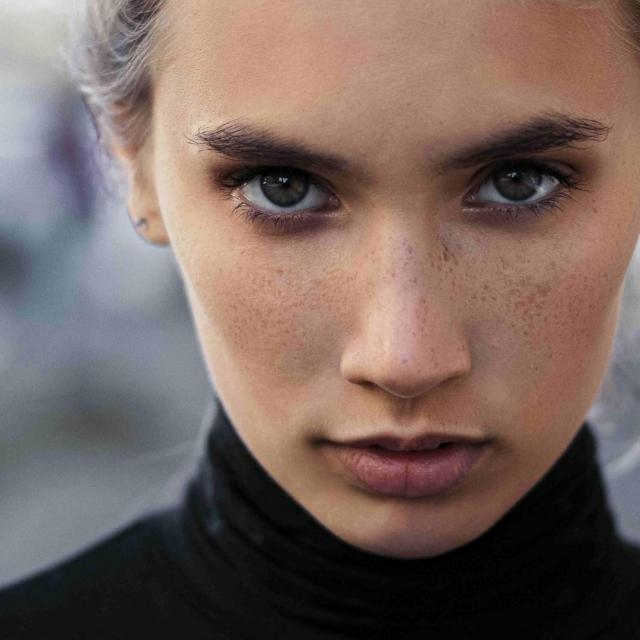Natural: (100, 53, 640, 574)
